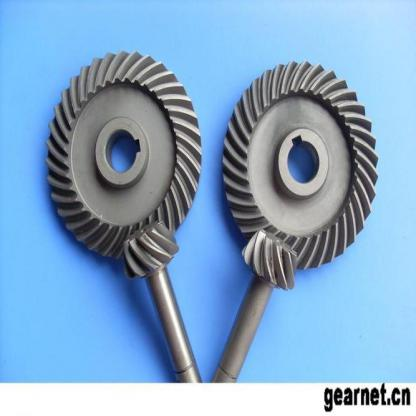FOD: (220, 58, 382, 276), (46, 48, 203, 262), (236, 228, 300, 294), (120, 217, 179, 282)
